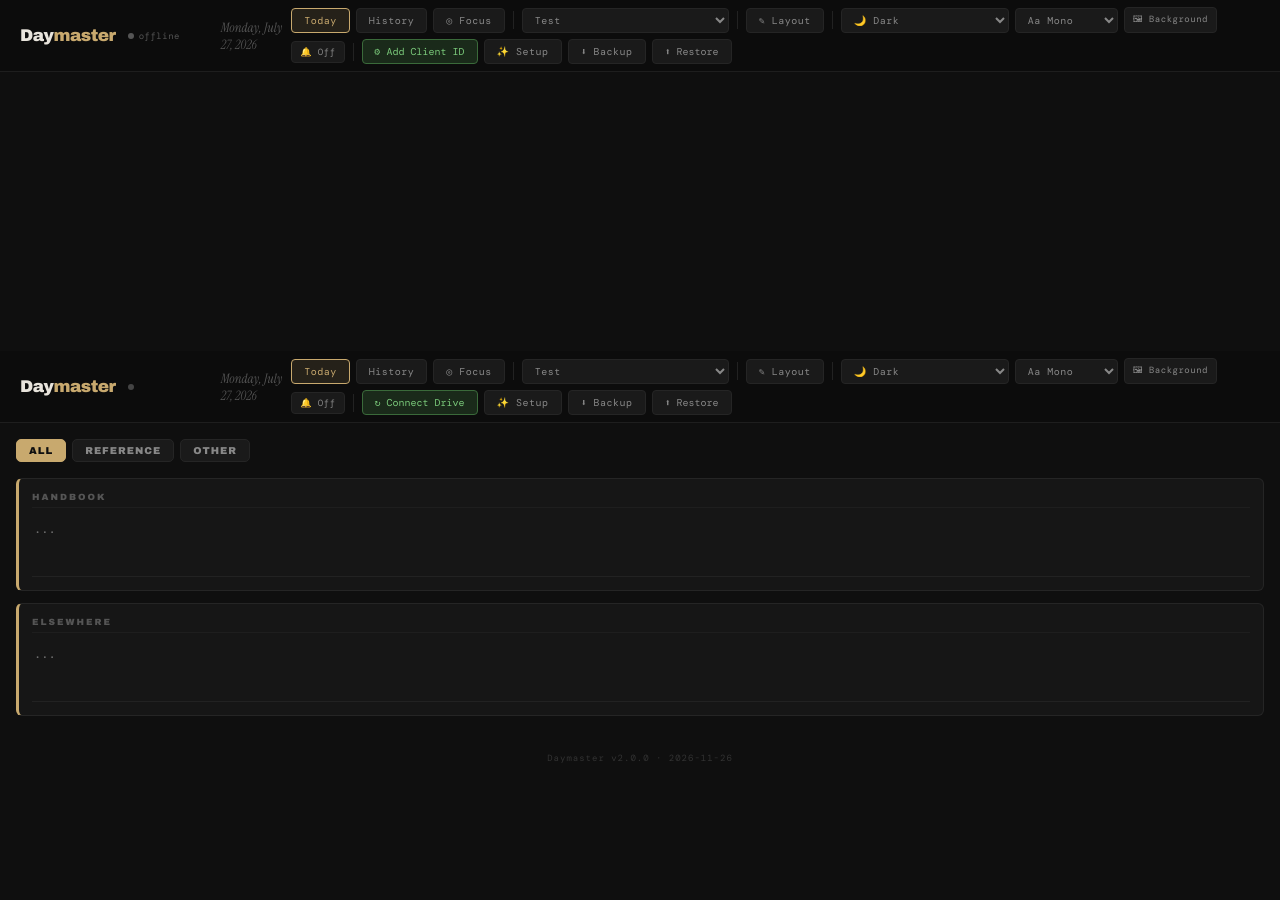
Test case: App — time-relevant tabs (#87) integration › never auto-switches a windowless layout, however far the clock runs (#84 back-compat)
(page scrolled)
manual pick sticks across hours, because no window ever claims the clock
Step 1. Click the button "Reference" → (123, 450), box [72,439,174,462]
Wait 180000 ms
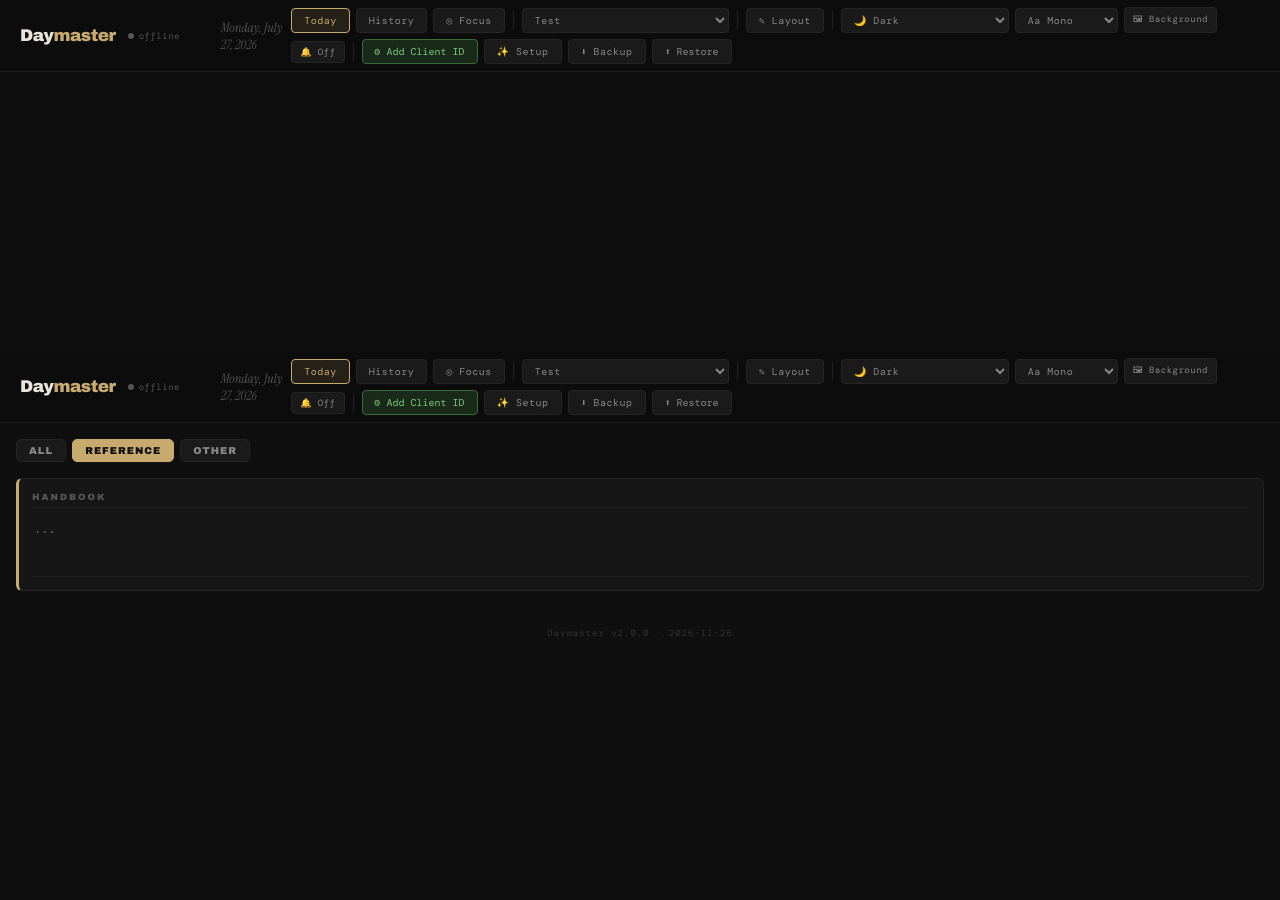
Expected: the text "HANDBOOK" is shown, [32,492,1250,508]
Result: the text "ELSEWHERE" is gone
